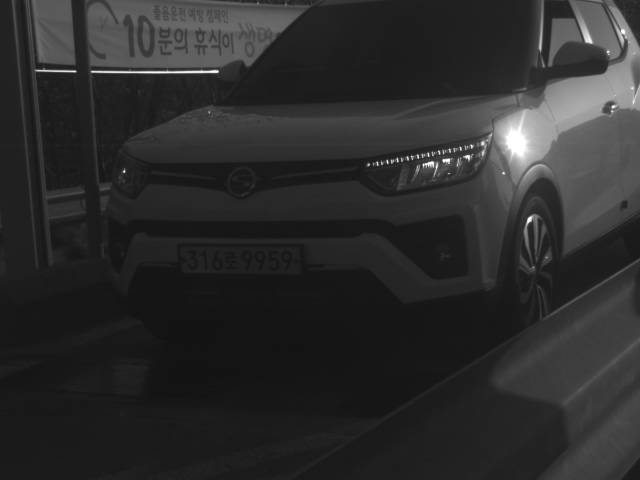car: (99, 1, 639, 341)
plate: (176, 243, 307, 276)
